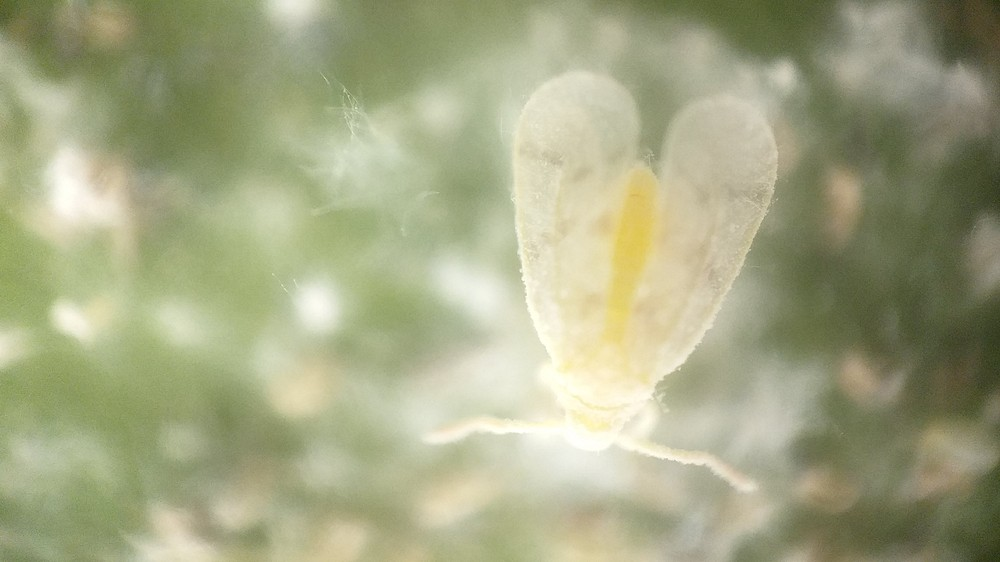Mosca Blanca: (412, 36, 793, 527)
